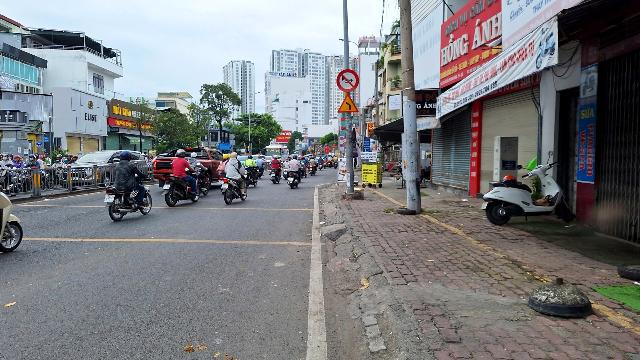cam-bop-coi: (336, 68, 359, 92)
cho-ngoat-nguy-hiem-ben-trai: (337, 93, 358, 113)
